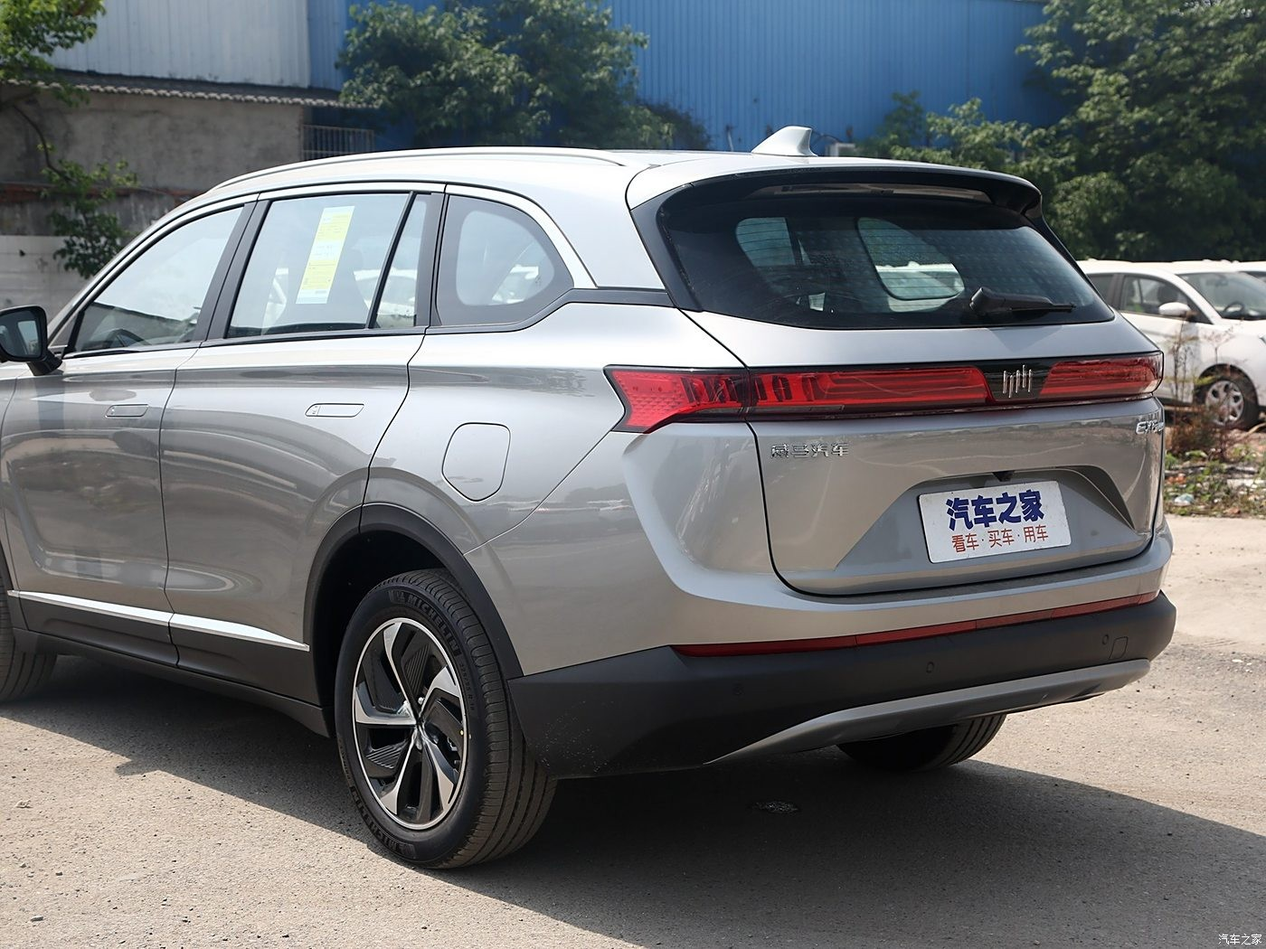WELTMEISTER: (1004, 366, 1032, 398)
